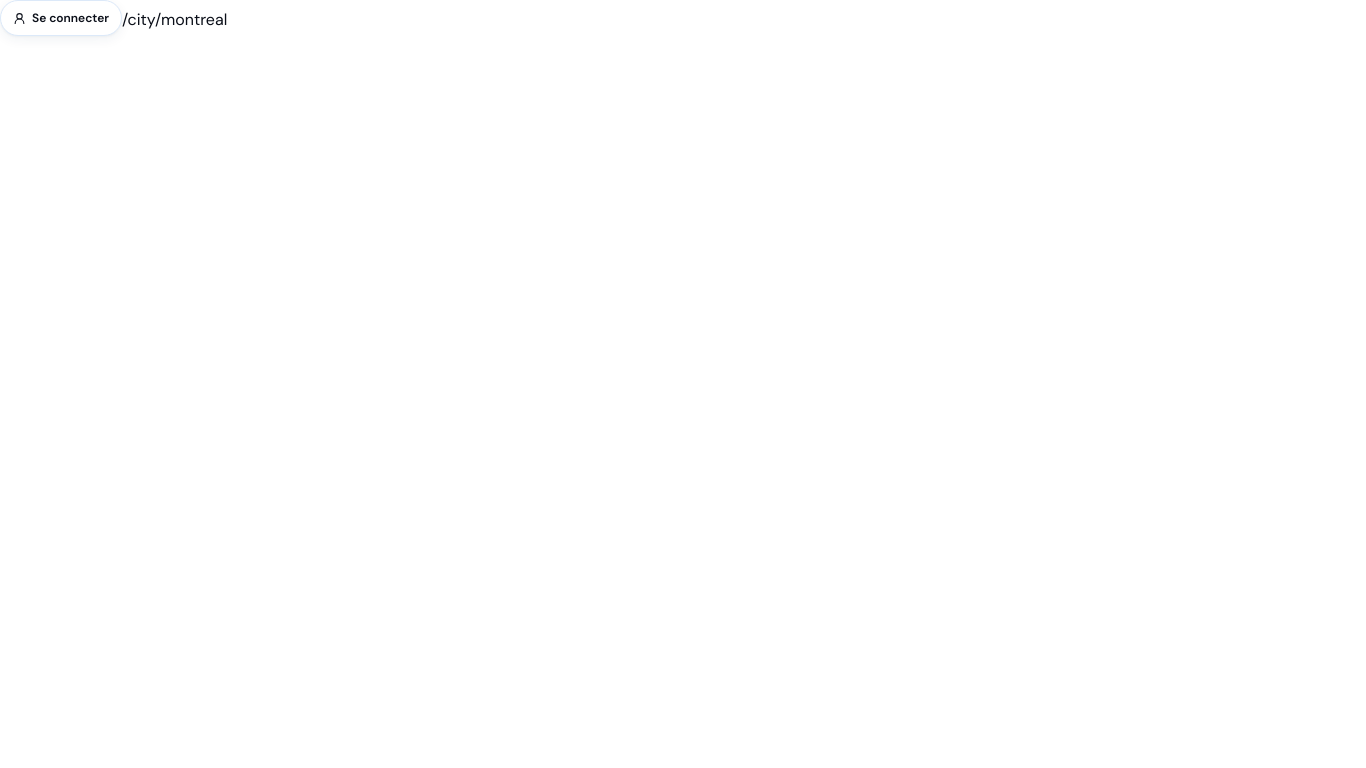
Scenario: owned QMAPS account navigation › keeps explicit legacy access by Vérifier par SMS
This screenshot has width=1366, height=768.
Click the button "Se connecter".
click(61, 18)  # box 0,0 -> 122,36
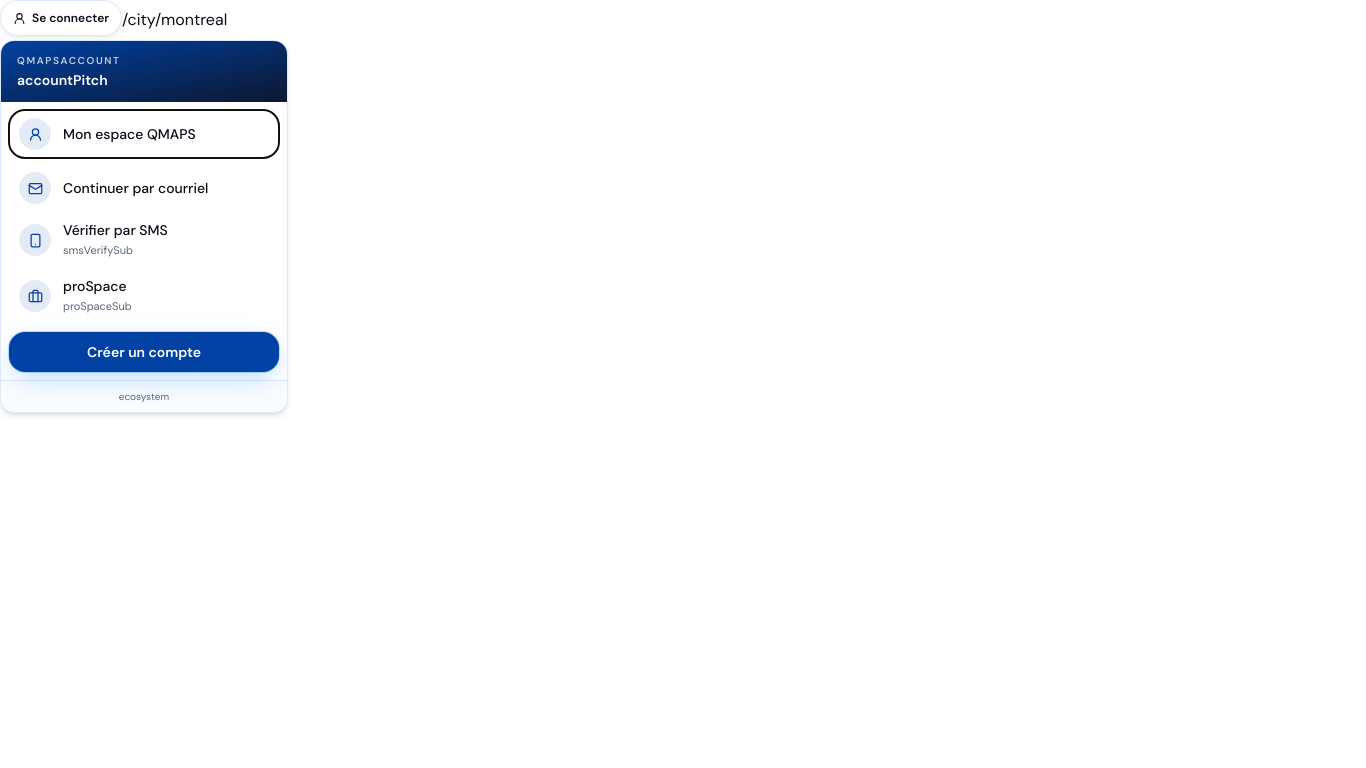
Expected: the dialog is shown, 0,40 -> 288,413
Expected: the button "Vérifier par SMS smsVerifySub" is shown
Click the button "Vérifier par SMS smsVerifySub".
click(144, 240)  # box 9,212 -> 279,268
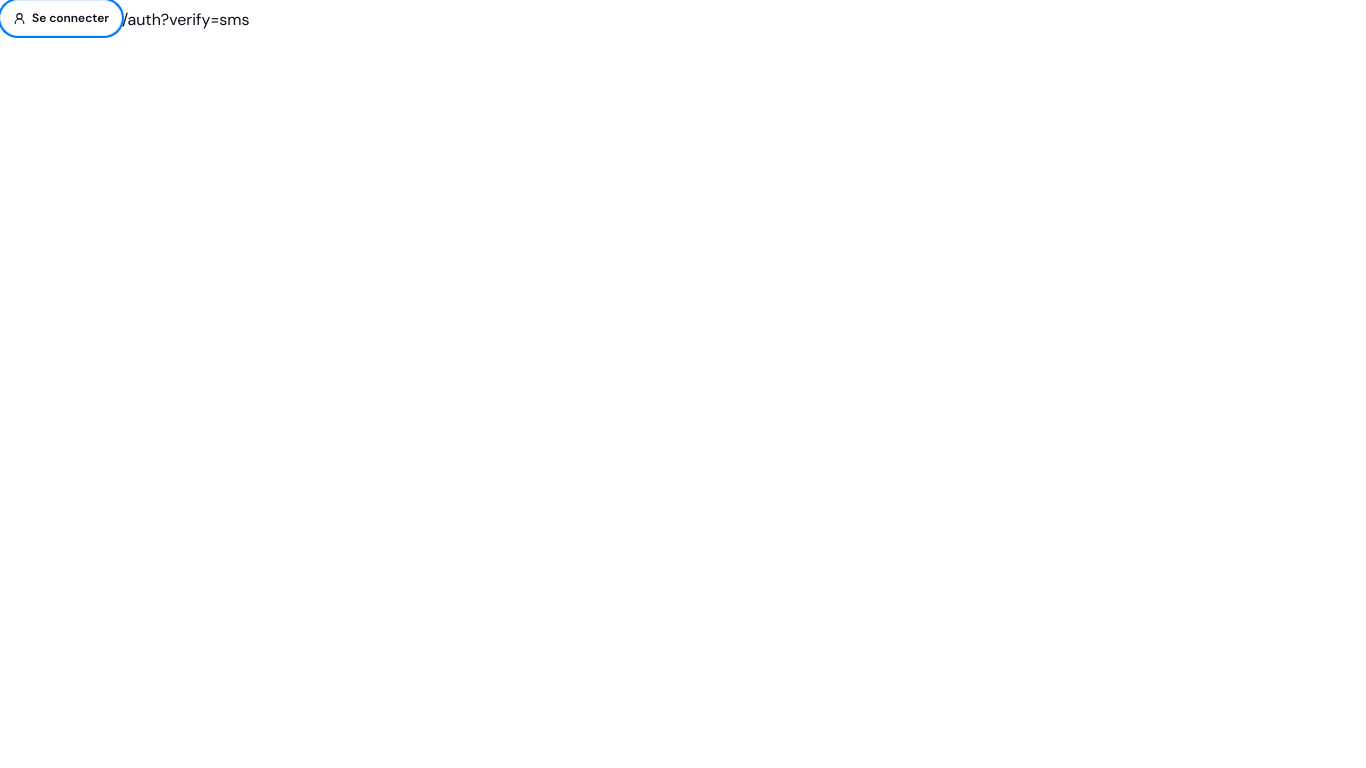
Expected: the text "/auth?verify=sms" is shown, 122,8 -> 250,30
